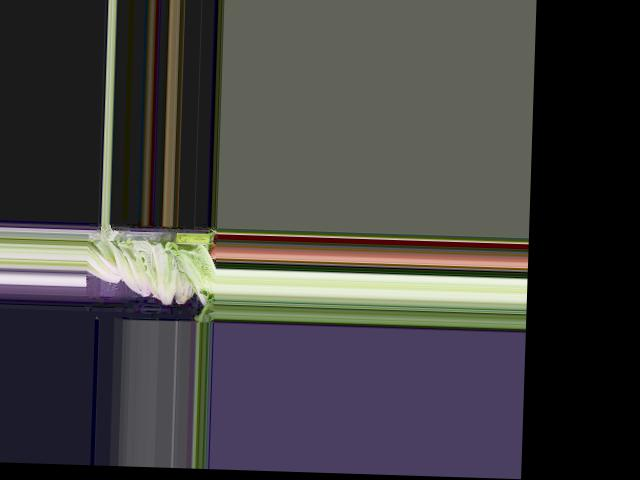lettuce: (85, 242, 125, 285)
